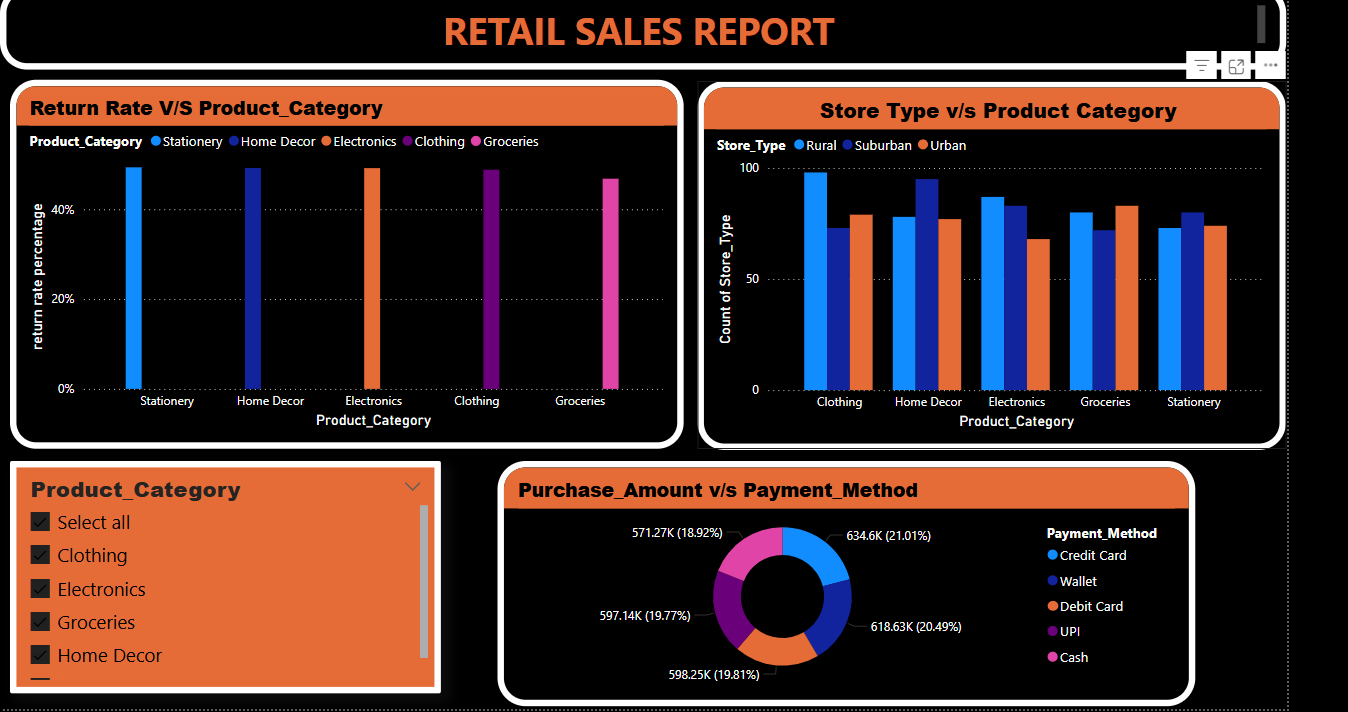

This screenshot's page, from the dashboard's own definition file:
{"tool":"powerbi","page":{"name":"report 1","canvas":[1280,720],"ordinal":0},"visuals":[{"type":"textbox","box":[0,0,1280,82.9],"z":0},{"type":"clusteredColumnChart","title":"Store Type v/s Product Category","fields":{"Category":["retail_sales_customer_satisfact.Product_Category"],"Y":["CountNonNull(retail_sales_customer_satisfact.Store_Type)"],"Series":["retail_sales_customer_satisfact.Store_Type"]},"box":[694.3,94.3,585.7,367.1],"z":1000},{"type":"lineClusteredColumnComboChart","title":"Return Rate V/S Product_Category","fields":{"Category":["retail_sales_customer_satisfact.Product_Category"],"Series":["retail_sales_customer_satisfact.Product_Category"],"Y":["retail_sales_customer_satisfact.return rate percentage"]},"box":[10,92.9,670,367.1],"z":3000},{"type":"donutChart","title":" Purchase_Amount v/s Payment_Method","fields":{"Category":["retail_sales_customer_satisfact.Payment_Method"],"Y":["Sum(retail_sales_customer_satisfact.Purchase_Amount)"]},"box":[495.7,472.9,694.3,244.3],"z":4000},{"type":"slicer","fields":{"Values":["retail_sales_customer_satisfact.Product_Category"]},"box":[10,472.5,428.8,231.2],"z":6000}]}

Visuals, with their boxes in screenshot pixels (x1, y1, x2, y2):
textbox: bbox(0, 0, 1288, 63)
"Store Type v/s Product Category" clusteredColumnChart: bbox(696, 74, 1288, 446)
"Return Rate V/S Product_Category" lineClusteredColumnComboChart: bbox(3, 73, 681, 444)
" Purchase_Amount v/s Payment_Method" donutChart: bbox(495, 457, 1197, 705)
slicer - retail_sales_customer_satisfact.Product_Category: bbox(3, 457, 437, 691)
